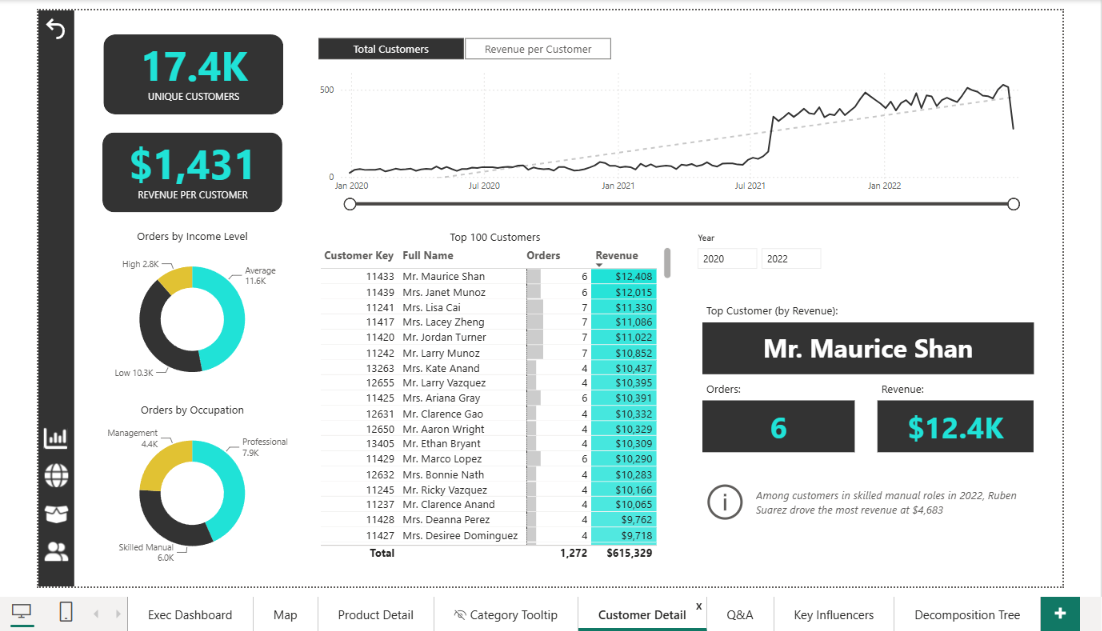

Layout of this report page (visuals, bound fields, positions):
{"tool":"powerbi","page":{"name":"Customer Detail","canvas":[1280,720],"ordinal":4},"visuals":[{"type":"shape","box":[0,0,45,720],"z":0},{"type":"actionButton","box":[2.5,516.7,45.6,37.8],"z":0,"group":"g1"},{"type":"shape","box":[81.7,30,225,100],"z":1000},{"type":"actionButton","box":[3.3,563.4,45.6,37.8],"z":1000,"group":"g1"},{"type":"shape","box":[80,152.7,225,100],"z":2000},{"type":"actionButton","box":[3.3,611.1,45.6,37.8],"z":2000,"group":"g1"},{"type":"card","fields":{"Values":["Measure Table.Total Customers"]},"box":[66.7,0,256.2,150],"z":3000},{"type":"actionButton","box":[3.3,657.8,45.6,37.8],"z":3000,"group":"g1"},{"type":"card","fields":{"Values":["Measure Table.Average Revenue per Customer"]},"box":[65,122.7,256.2,150],"z":4000},{"type":"lineChart","fields":{"Y":["Measure Table.Total Customers"],"Category":["Calendar Lookup.Date Hierarchy.Year","Calendar Lookup.Date Hierarchy.Start of Month","Calendar Lookup.Date Hierarchy.Start of Week","Calendar Lookup.Date Hierarchy.Date"]},"box":[345.9,63.3,898.6,188.8],"z":5000},{"type":"donutChart","title":"Orders by Income Level","fields":{"Category":["Customer Lookup.Income Level"],"Y":["Measure Table.Total Orders"]},"box":[63.8,272.5,257.5,210],"z":6000},{"type":"donutChart","title":"Orders by Occupation","fields":{"Y":["Measure Table.Total Orders"],"Category":["Customer Lookup.Occupation"]},"box":[63.8,490,257.5,210],"z":7000},{"type":"tableEx","title":"Top 100 Customers","fields":{"Values":["Customer Lookup.CustomerKey","Customer Lookup.Full Name","Measure Table.Total Orders","Measure Table.Total Revenue"]},"box":[346,273.6,449.4,418.4],"z":8000},{"type":"card","fields":{"Values":["Min(Customer Lookup.Full Name)"]},"box":[829.6,390.1,414.5,65.1],"z":9000},{"type":"card","fields":{"Values":["Measure Table.Total Orders"]},"box":[829.6,487,190.7,65.1],"z":10000},{"type":"card","fields":{"Values":["Measure Table.Total Revenue"]},"box":[1048.7,487,195.4,65.1],"z":11000},{"type":"textbox","box":[829.6,361.7,190.7,37.9],"z":12000},{"type":"textbox","box":[829.6,458.4,190.7,37.9],"z":13000},{"type":"textbox","box":[1048.7,458.4,190.7,37.9],"z":14000},{"type":"slicer","fields":{"Values":["Calendar Lookup.Year"]},"box":[811.6,272.4,432.9,80.3],"z":15000},{"type":"actionButton","box":[830,586.7,410,56.7],"z":16000},{"type":"actionButton","box":[3.3,5.6,35.6,35.6],"z":17000},{"type":"group","id":"g1","title":"Navigation Buttons","box":[2.5,516.7,46.4,178.9],"z":18000},{"type":"slicer","fields":{"Values":["Customer Metric Selection.Customer Metric Selection"]},"box":[323.3,27.1,415.9,36.2],"z":19000}]}

Visuals, with their boxes on the page's 1280x720 design canvas (x1, y1, x2, y2). These are canvas units, not pixel positions in the 1102x631 screenshot, which may show the page scaled, cropped or inside an application window:
shape: locate(0, 0, 45, 720)
actionButton: locate(2, 517, 48, 554)
shape: locate(82, 30, 307, 130)
actionButton: locate(3, 563, 49, 601)
shape: locate(80, 153, 305, 253)
actionButton: locate(3, 611, 49, 649)
card - Measure Table.Total Customers: locate(67, 0, 323, 150)
actionButton: locate(3, 658, 49, 696)
card - Measure Table.Average Revenue per Customer: locate(65, 123, 321, 273)
lineChart - Measure Table.Total Customers x Calendar Lookup.Date Hierarchy.Year: locate(346, 63, 1244, 252)
"Orders by Income Level" donutChart: locate(64, 272, 321, 482)
"Orders by Occupation" donutChart: locate(64, 490, 321, 700)
"Top 100 Customers" tableEx: locate(346, 274, 795, 692)
card - Min(Customer Lookup.Full Name): locate(830, 390, 1244, 455)
card - Measure Table.Total Orders: locate(830, 487, 1020, 552)
card - Measure Table.Total Revenue: locate(1049, 487, 1244, 552)
textbox: locate(830, 362, 1020, 400)
textbox: locate(830, 458, 1020, 496)
textbox: locate(1049, 458, 1239, 496)
slicer - Calendar Lookup.Year: locate(812, 272, 1244, 353)
actionButton: locate(830, 587, 1240, 643)
actionButton: locate(3, 6, 39, 41)
"Navigation Buttons" group: locate(2, 517, 49, 696)
slicer - Customer Metric Selection.Customer Metric Selection: locate(323, 27, 739, 63)
